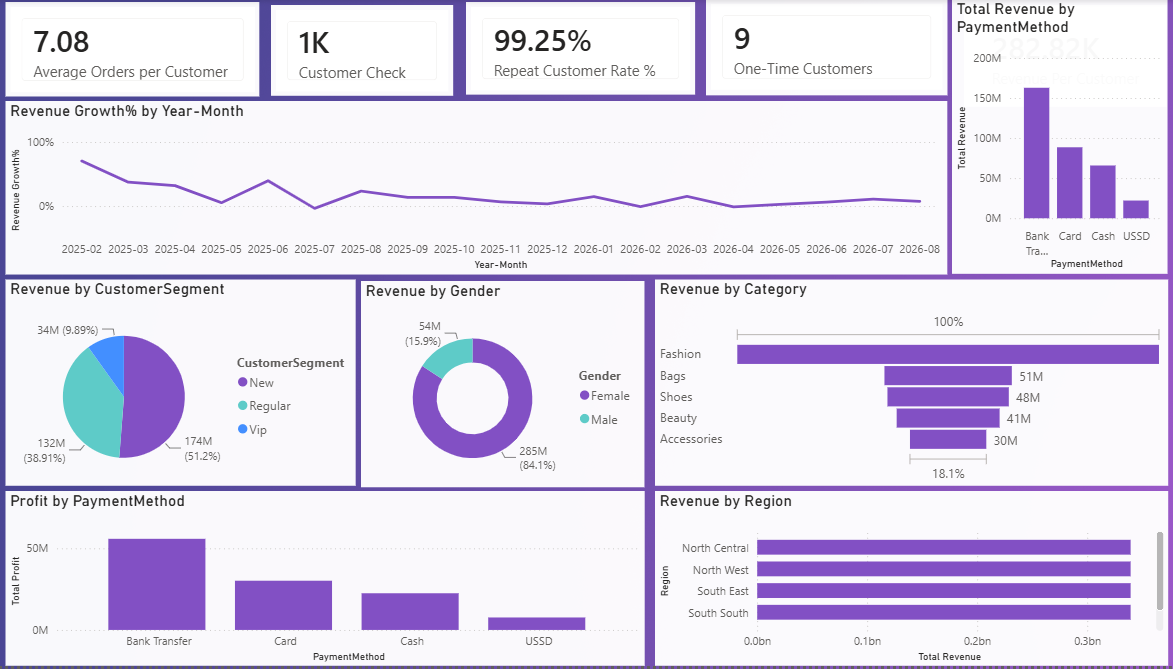

Layout of this report page (visuals, bound fields, positions):
{"tool":"powerbi","page":{"name":"Customer Dashboard","canvas":[1280,720],"ordinal":2},"visuals":[{"type":"funnel","title":" Revenue by Category","fields":{"Category":["Products.Category"],"Y":["Orders.Total Revenue"]},"box":[712.4,302.4,553.7,223],"z":0},{"type":"barChart","title":"Revenue by Region","fields":{"Category":["Locations.Region"],"Y":["Orders.Total Revenue"]},"box":[712.4,531,553.7,189],"z":1000},{"type":"donutChart","title":"Revenue by Gender","fields":{"Category":["Customers.Gender"],"Y":["Orders.Total Revenue"]},"box":[395,304.3,306.1,223],"z":2000},{"type":"pieChart","title":"Revenue by CustomerSegment","fields":{"Category":["Customers.CustomerSegment"],"Y":["Orders.Total Revenue"]},"box":[11.3,302.4,378,223],"z":3000},{"type":"lineChart","fields":{"Category":["DateTable.Year-Month"],"Y":["DateTable.Revenue Growth%"]},"box":[11.3,109.6,1016.7,187.1],"z":4000},{"type":"clusteredColumnChart","title":"Profit by PaymentMethod","fields":{"Category":["Orders.PaymentMethod"],"Y":["Orders.Total Profit"]},"box":[11.3,531,689.8,189],"z":5000},{"type":"cardVisual","fields":{"Data":["Orders.Revenue Per Customer"]},"box":[1046,6.5,218.6,110.1],"z":6000},{"type":"cardVisual","fields":{"Data":["Orders.One-Time Customers"]},"box":[767.2,0,260.8,103.9],"z":7000},{"type":"cardVisual","fields":{"Data":["Orders.Repeat Customer Rate %"]},"box":[508.4,3.8,247.6,100.2],"z":8000},{"type":"cardVisual","fields":{"Data":["Orders.Customer Check"]},"box":[298.6,5.7,196.5,98.3],"z":9000},{"type":"cardVisual","fields":{"Data":["Orders.Average Orders per Customer"]},"box":[11.3,3.8,274,102],"z":10000},{"type":"clusteredColumnChart","fields":{"Category":["Orders.PaymentMethod"],"Y":["Orders.Total Revenue"]},"box":[1033.7,0,232.4,296.7],"z":11000}]}

Visuals, with their boxes in screenshot pixels (x1, y1, x2, y2), scaled from the page's 1280x720 canvas onto the 1173x669 screenshot:
" Revenue by Category" funnel: left=653, top=281, right=1160, bottom=488
"Revenue by Region" barChart: left=653, top=493, right=1160, bottom=668
"Revenue by Gender" donutChart: left=362, top=283, right=642, bottom=490
"Revenue by CustomerSegment" pieChart: left=10, top=281, right=357, bottom=488
lineChart - DateTable.Year-Month x DateTable.Revenue Growth%: left=10, top=102, right=942, bottom=276
"Profit by PaymentMethod" clusteredColumnChart: left=10, top=493, right=642, bottom=668
cardVisual - Orders.Revenue Per Customer: left=959, top=6, right=1159, bottom=108
cardVisual - Orders.One-Time Customers: left=703, top=0, right=942, bottom=97
cardVisual - Orders.Repeat Customer Rate %: left=466, top=4, right=693, bottom=97
cardVisual - Orders.Customer Check: left=274, top=5, right=454, bottom=97
cardVisual - Orders.Average Orders per Customer: left=10, top=4, right=261, bottom=98
clusteredColumnChart - Orders.PaymentMethod x Orders.Total Revenue: left=947, top=0, right=1160, bottom=276
